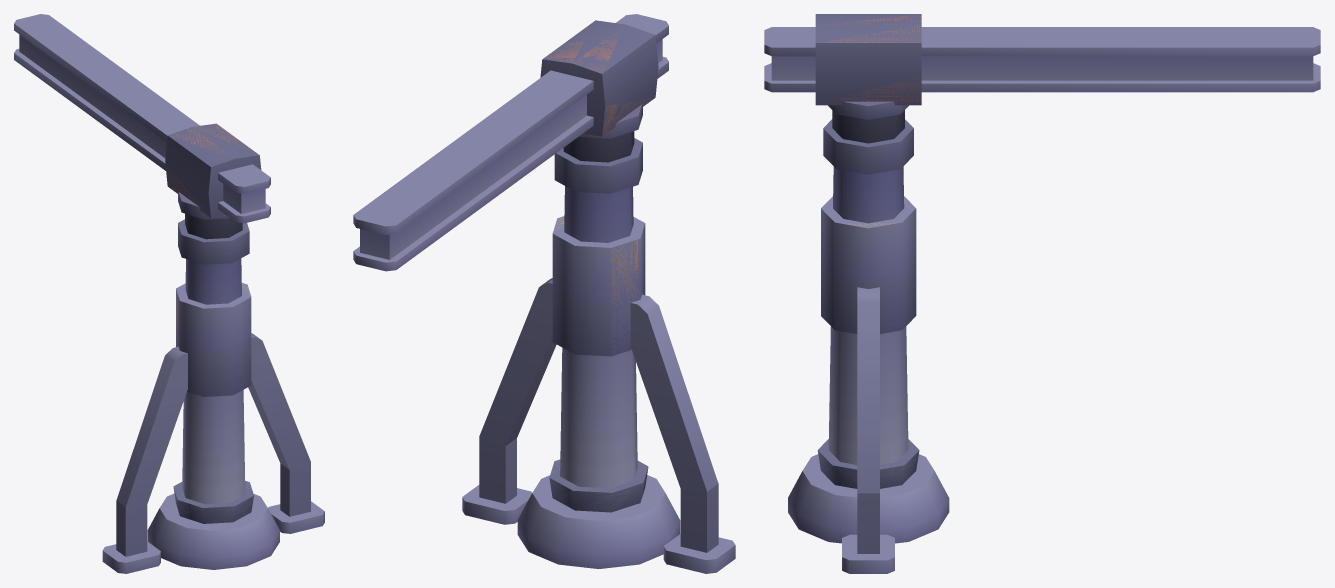
File: lyftkran.glb
3 views of the same model, side by side, from view 1: azimuth 30°, elevation 25°; view 2: azimuth 150°, elevation 25°; view 3: azimuth 270°, elevation 25° (orthographic). The views are drawn at different scales.
Visible parts, largest first — view 1: crane, arm; view 2: crane, arm; view 3: crane, arm.
Boxes of the visible parts, box(x1,y1,x2,y2) form: crane: box(102, 213, 324, 573); arm: box(14, 14, 270, 223); crane: box(462, 131, 735, 573); arm: box(353, 14, 668, 271); crane: box(788, 110, 949, 573); arm: box(764, 14, 1320, 119).
Size of the model in its own units: 1.93 by 3.55 by 3.68.
1 material, 1 textured.
